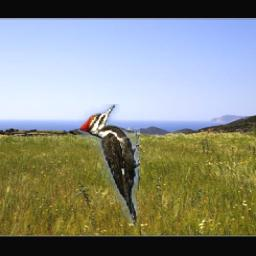Woodpecker: (79, 105, 141, 232)
